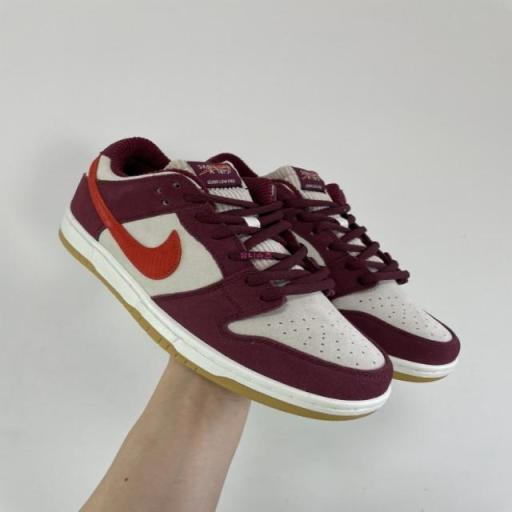Nike: (86, 176, 181, 286)
